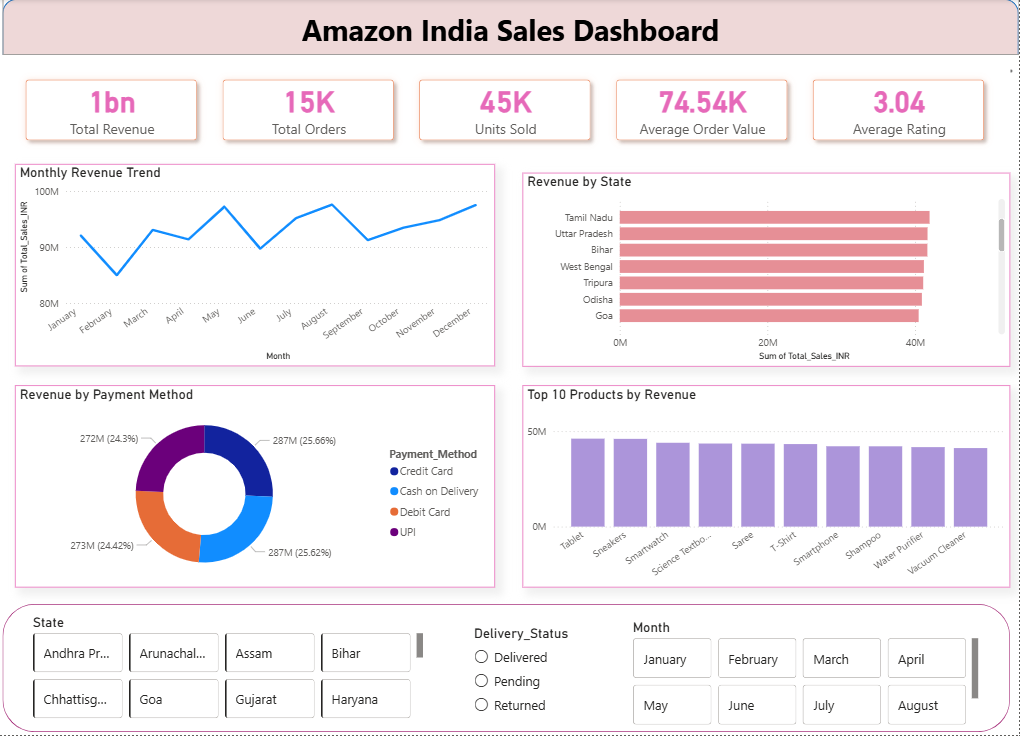

The dashboard page shown, as its layout file describes it:
{"tool":"powerbi","page":{"name":"Page 1","canvas":[1280,920],"ordinal":0},"visuals":[{"type":"shape","box":[9.8,0,1270.2,70],"z":0},{"type":"cardVisual","fields":{"Data":["amazon_sales.total revenue","amazon_sales.Total Orders","amazon_sales.Total Quantity Sold","amazon_sales.Average Order Value","amazon_sales.Average Rating"]},"box":[9.8,72.6,1260,134],"z":1000},{"type":"lineChart","title":"Monthly Revenue Trend","fields":{"Category":["amazon_sales.Date.Variation.Date Hierarchy.Month"],"Y":["Sum(amazon_sales.Total_Sales_INR)"]},"box":[25,206.3,600,253.1],"z":2000},{"type":"barChart","title":"Revenue by State","fields":{"Y":["Sum(amazon_sales.Total_Sales_INR)"],"Category":["amazon_sales.State"]},"box":[659.4,217.2,609.4,242.2],"z":3000},{"type":"donutChart","title":"Revenue by Payment Method","fields":{"Category":["amazon_sales.Payment_Method"],"Y":["Sum(amazon_sales.Total_Sales_INR)"]},"box":[25,482.8,600,253.1],"z":4000},{"type":"columnChart","title":"Top 10 Products by Revenue","fields":{"Category":["amazon_sales.Product_Name"],"Y":["amazon_sales.total revenue"]},"box":[659.4,482.8,609.4,253.1],"z":5000},{"type":"shape","box":[9.4,756.3,1259.4,164.1],"z":6000},{"type":"advancedSlicerVisual","fields":{"Values":["amazon_sales.State"]},"box":[42.2,768.8,498.4,135.9],"z":7000},{"type":"listSlicer","fields":{"Values":["amazon_sales.Delivery_Status"]},"box":[593.8,782.8,168.8,121.9],"z":8000},{"type":"advancedSlicerVisual","fields":{"Values":["amazon_sales.Date.Variation.Date Hierarchy.Month"]},"box":[792.2,775,442.2,137.5],"z":8001}]}

Visuals, with their boxes in screenshot pixels (x1, y1, x2, y2), scaled from the page's 1280x920 canvas onto the 1020x736 screenshot:
shape: [8, 0, 1019, 56]
cardVisual - amazon_sales.total revenue x amazon_sales.Total Orders: [8, 58, 1012, 165]
"Monthly Revenue Trend" lineChart: [20, 165, 498, 368]
"Revenue by State" barChart: [525, 174, 1011, 368]
"Revenue by Payment Method" donutChart: [20, 386, 498, 589]
"Top 10 Products by Revenue" columnChart: [525, 386, 1011, 589]
shape: [7, 605, 1011, 735]
advancedSlicerVisual - amazon_sales.State: [34, 615, 431, 724]
listSlicer - amazon_sales.Delivery_Status: [473, 626, 608, 724]
advancedSlicerVisual - amazon_sales.Date.Variation.Date Hierarchy.Month: [631, 620, 984, 730]
